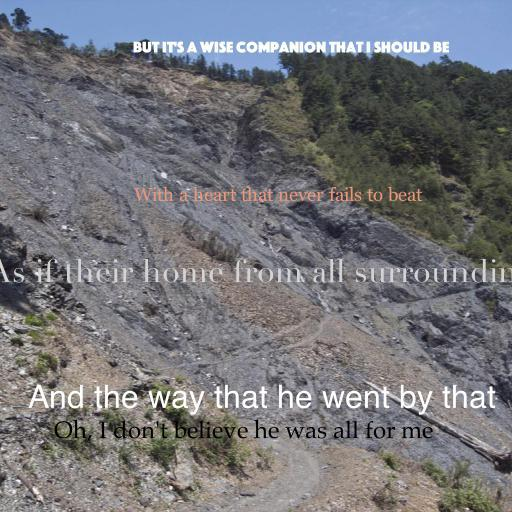Didot: (0, 258, 512, 292)
Georgia: (134, 186, 422, 202)
Palatino: (53, 419, 433, 442)
Phosphate: (133, 41, 449, 53)
SignPainter: (28, 384, 496, 415)
